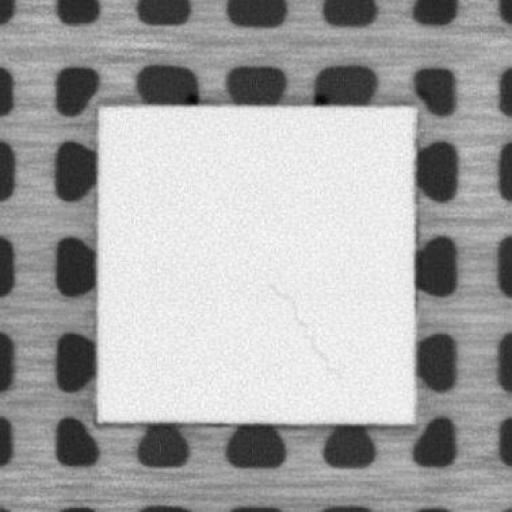DIE_CRACK: (261, 282, 340, 378)
